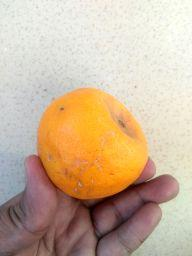Unripe: (42, 87, 148, 197)
